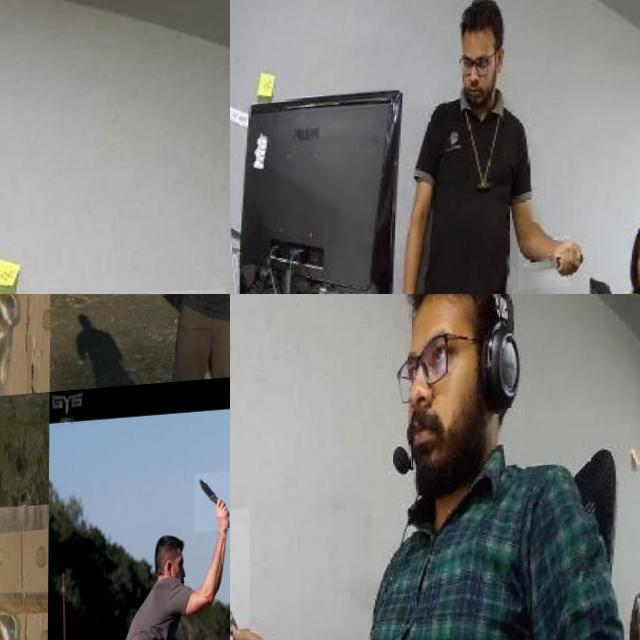-: (230, 511, 262, 640), (519, 242, 572, 294), (195, 479, 230, 540), (0, 526, 11, 611), (0, 294, 14, 333), (214, 294, 226, 319)
